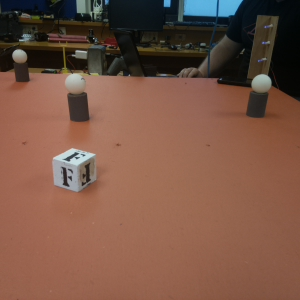blockF: (50, 148, 99, 193)
corner: (252, 15, 274, 78)
obstacle: (67, 73, 89, 122), (247, 75, 269, 117), (14, 49, 28, 82)
